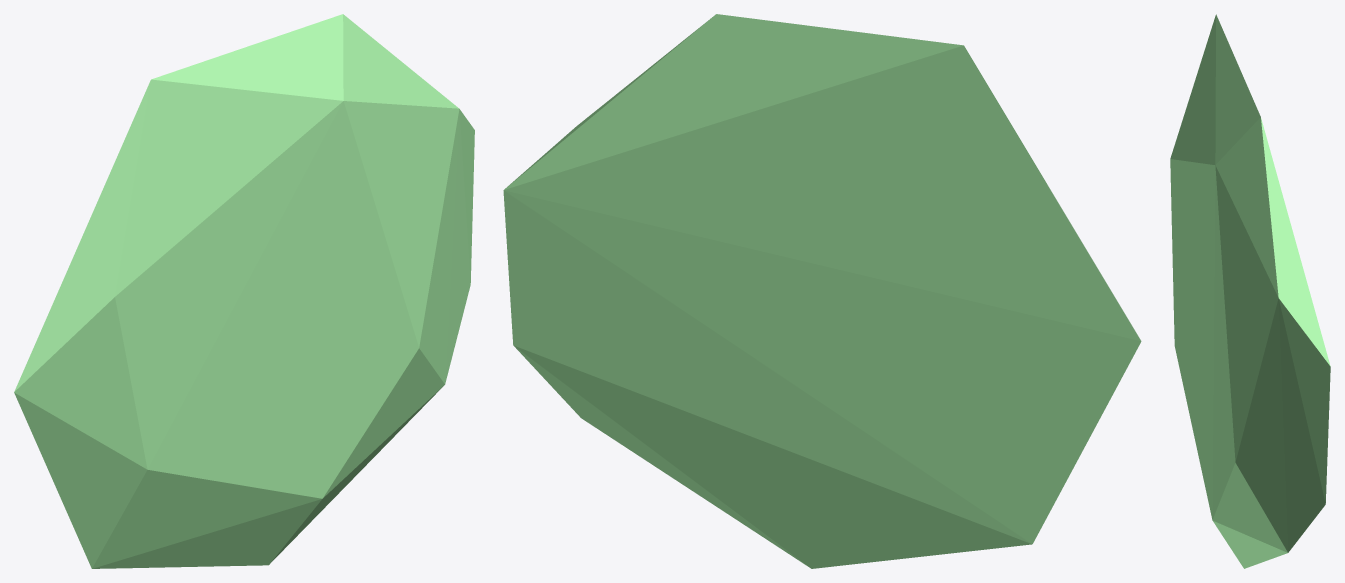
Rendered from franka_link7resp_coll_16.dae.
3 renders of one model, left to right at view 1: azimuth 30°, elevation 25°; view 2: azimuth 150°, elevation 25°; view 3: azimuth 270°, elevation 25°, orthographic. The views are drawn at different scales.
Parts seen in each view (by area): view 1: node; view 2: node; view 3: node.
Part boxes in pixels (x1=…): node: x1=14, y1=14, x2=474, y2=568; node: x1=503, y1=14, x2=1141, y2=568; node: x1=1170, y1=14, x2=1330, y2=568.
Bounding box in the file's own units: 0.0744 × 0.0697 × 0.0205.
